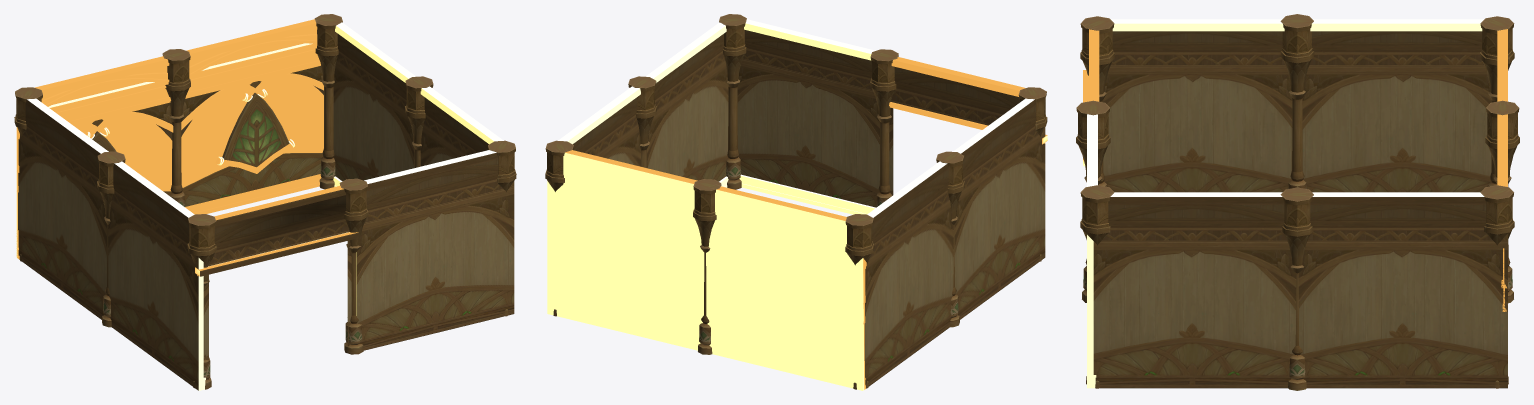
File: Homeworld_Interior_Xm_Room_I_Wall_01_Vo.fbx
3 renders of one model, left to right at view 1: azimuth 30°, elevation 25°; view 2: azimuth 150°, elevation 25°; view 3: azimuth 270°, elevation 25°, orthographic. The views are drawn at different scales.
Visible parts, largest first — view 1: Homeworld_Interior_Xm_Room_Wall_01_Vo (×5), Homeworld_Interior_Xm_Room_Wall_02_Vo (×2), Homeworld_Interior_Xm_Room_Pillar_01_Vo (×5), Homeworld_Interior_Xm_Room_Door_02_Vo, Homeworld_Interior_Xm_Room_Pillar_02_Vo (×3), Homeworld_Interior_Xm_Room_I_Filling_01_Vo; view 2: Homeworld_Interior_Xm_Room_Wall_01_Vo (×5), Homeworld_Interior_Xm_Room_Wall_02_Vo (×2), Homeworld_Interior_Xm_Room_Pillar_01_Vo (×5), Homeworld_Interior_Xm_Room_Door_02_Vo, Homeworld_Interior_Xm_Room_Pillar_02_Vo (×3); view 3: Homeworld_Interior_Xm_Room_Wall_01_Vo (×5), Homeworld_Interior_Xm_Room_Pillar_01_Vo (×5), Homeworld_Interior_Xm_Room_Pillar_02_Vo (×3), Homeworld_Interior_Xm_Room_Wall_02_Vo (×2), Homeworld_Interior_Xm_Room_Door_02_Vo.
Part boxes in pixels (x1,y1,x2,y2): Homeworld_Interior_Xm_Room_Wall_01_Vo (×5): (18,22,514,390); Homeworld_Interior_Xm_Room_Wall_02_Vo (×2): (16,19,323,259); Homeworld_Interior_Xm_Room_Pillar_01_Vo (×5): (14,14,516,389); Homeworld_Interior_Xm_Room_Door_02_Vo: (195,185,358,276); Homeworld_Interior_Xm_Room_Pillar_02_Vo (×3): (97,49,433,327); Homeworld_Interior_Xm_Room_I_Filling_01_Vo: (203,240,351,379); Homeworld_Interior_Xm_Room_Wall_01_Vo (×5): (547,19,1045,390); Homeworld_Interior_Xm_Room_Wall_02_Vo (×2): (547,150,866,390); Homeworld_Interior_Xm_Room_Pillar_01_Vo (×5): (545,14,1047,389); Homeworld_Interior_Xm_Room_Door_02_Vo: (889,57,1047,144); Homeworld_Interior_Xm_Room_Pillar_02_Vo (×3): (628,76,964,354); Homeworld_Interior_Xm_Room_Wall_01_Vo (×5): (1087,19,1507,388); Homeworld_Interior_Xm_Room_Pillar_01_Vo (×5): (1076,16,1514,388); Homeworld_Interior_Xm_Room_Pillar_02_Vo (×3): (1280,14,1519,390); Homeworld_Interior_Xm_Room_Wall_02_Vo (×2): (1497,29,1507,311); Homeworld_Interior_Xm_Room_Door_02_Vo: (1083,29,1099,166).
Size of what is drawn, in the model's own units: 10.58 by 5.02 by 10.55.
